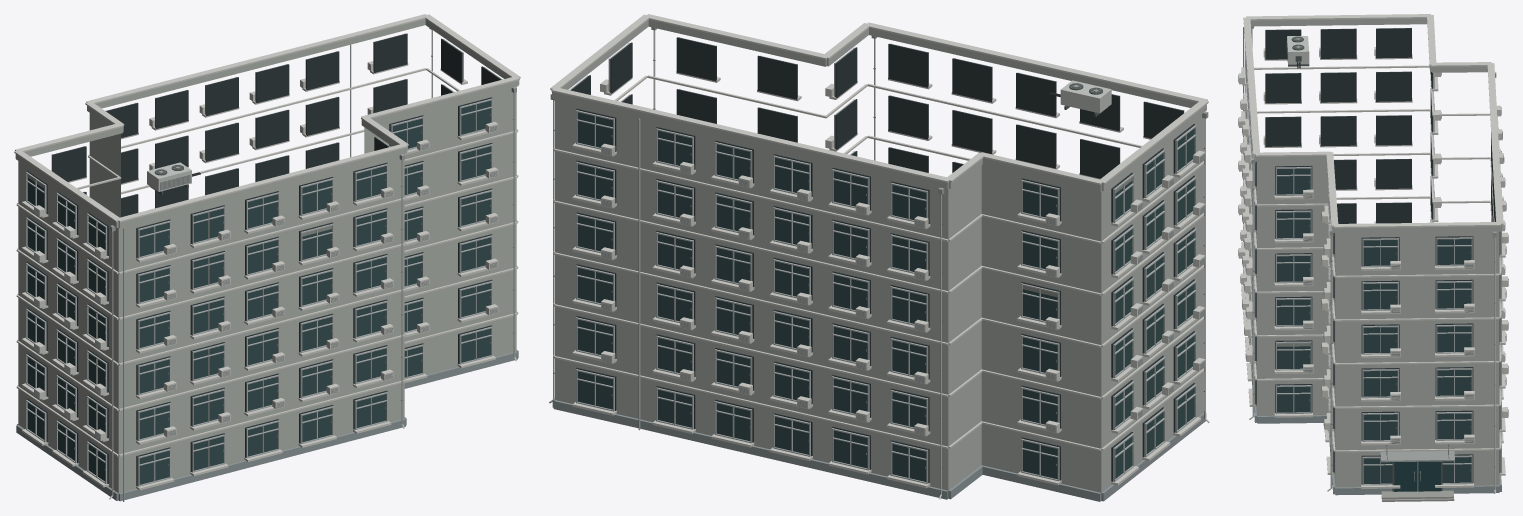
The model's file is osm_way_223859832.glb.
3 views of the same model, side by side, from view 1: azimuth 30°, elevation 25°; view 2: azimuth 150°, elevation 25°; view 3: azimuth 270°, elevation 25° (orthographic). The views are drawn at different scales.
Parts seen in each view (by area): view 1: Windows and facade details | 2, Architecture | 2, Roof services | 2, EXTERIOR::osm_way_223859832::rainwater and roof service deta; view 2: Architecture | 2, Windows and facade details | 2, Roof services | 2, EXTERIOR::osm_way_223859832::rainwater and roof service deta; view 3: Windows and facade details | 2, Architecture | 2, Roof services | 2, EXTERIOR::osm_way_223859832::inferred entry doors canopy and, EXTERIOR::osm_way_223859832::rainwater and roof service deta.
Part boxes in pixels (x1,y1,x2,y2): Windows and facade details | 2: [21, 33, 502, 501]; Architecture | 2: [15, 19, 519, 501]; Roof services | 2: [14, 14, 520, 222]; EXTERIOR::osm_way_223859832::rainwater and roof service deta: [109, 28, 516, 499]; Architecture | 2: [552, 19, 1206, 501]; Windows and facade details | 2: [569, 37, 1205, 488]; Roof services | 2: [550, 14, 1208, 184]; EXTERIOR::osm_way_223859832::rainwater and roof service deta: [549, 27, 1209, 499]; Windows and facade details | 2: [1238, 27, 1508, 488]; Architecture | 2: [1246, 18, 1502, 495]; Roof services | 2: [1243, 14, 1503, 228]; EXTERIOR::osm_way_223859832::inferred entry doors canopy and: [1380, 444, 1454, 501]; EXTERIOR::osm_way_223859832::rainwater and roof service deta: [1249, 26, 1496, 493].
Size of the model in its own units: 34.91 by 20.58 by 17.97.
